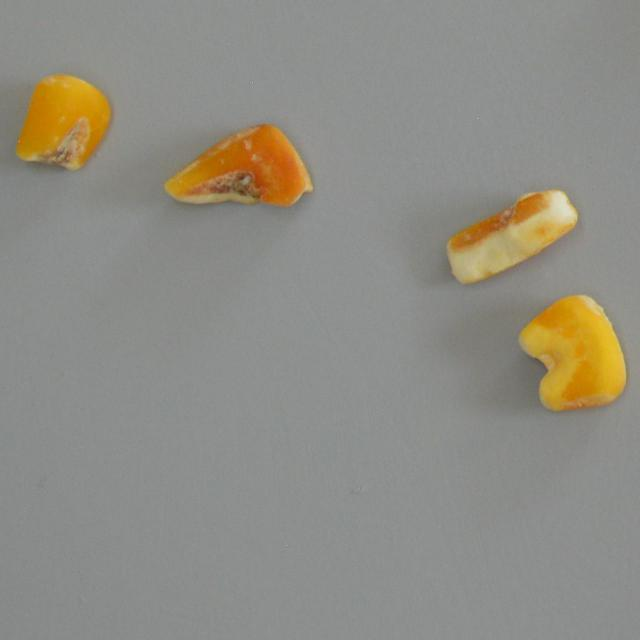dañado: (158, 116, 316, 216), (440, 182, 582, 288), (514, 286, 626, 416), (10, 70, 122, 177)
